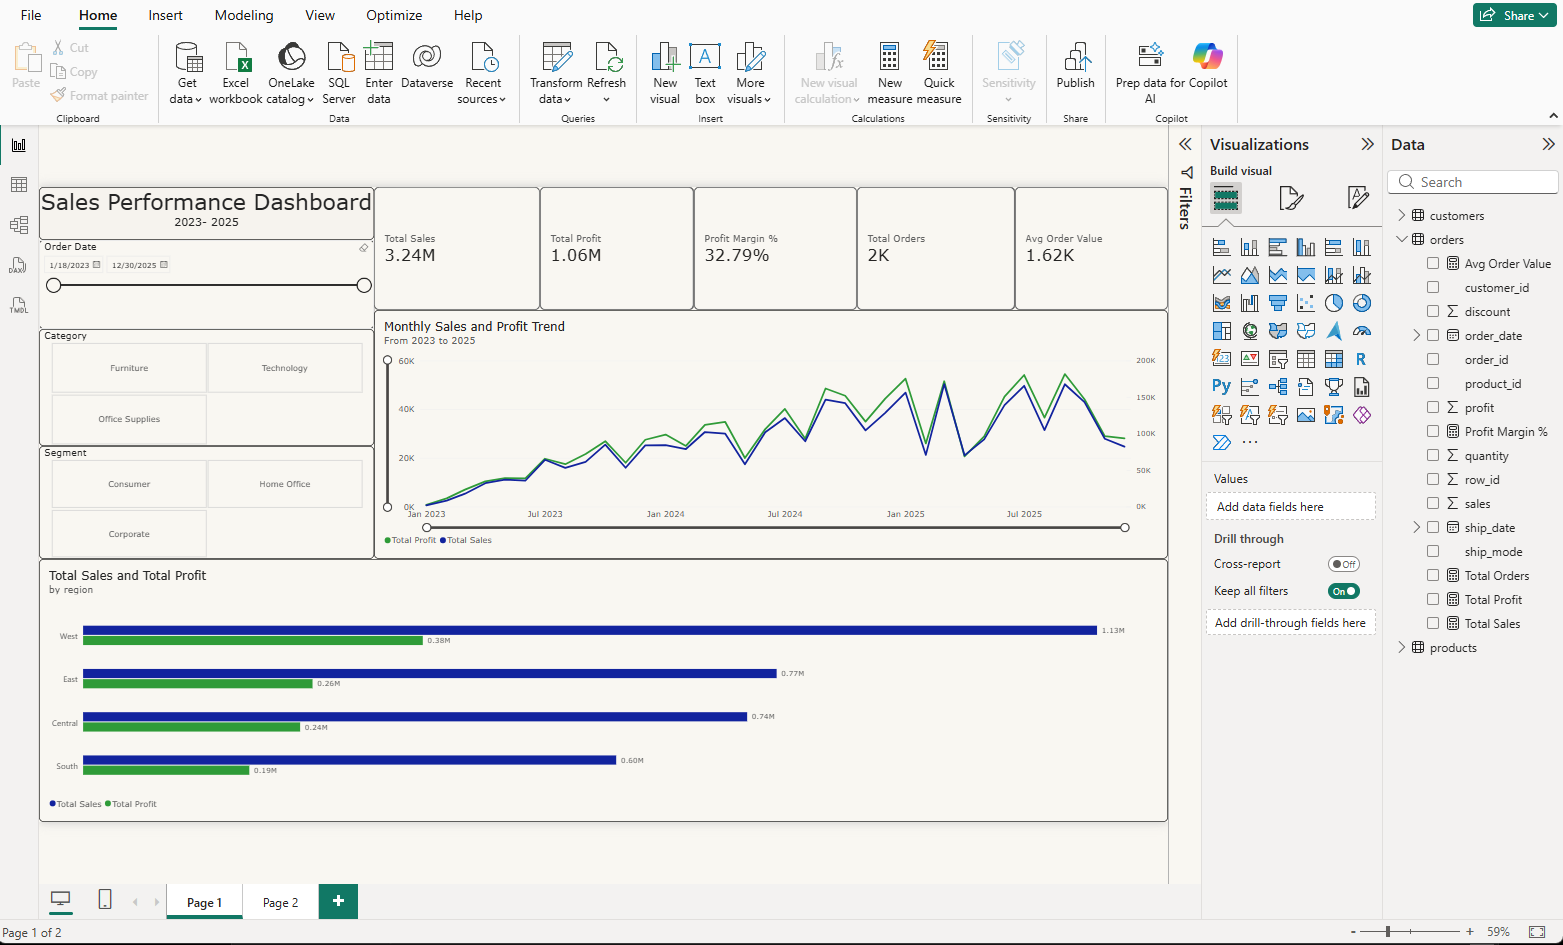

This screenshot's page, from the dashboard's own definition file:
{"tool":"powerbi","page":{"name":"Page 1","canvas":[1920,1080],"ordinal":0},"visuals":[{"type":"cardVisual","fields":{"Data":["orders.Total Profit"]},"box":[852,0,261.9,209.2],"z":0},{"type":"cardVisual","fields":{"Data":["orders.Profit Margin %"]},"box":[1113.9,0,277.2,209.2],"z":1000},{"type":"cardVisual","fields":{"Data":["orders.Total Orders"]},"box":[1391.1,0,268.7,209.2],"z":2000},{"type":"cardVisual","fields":{"Data":["orders.Avg Order Value"]},"box":[1659.8,0,260.2,209.2],"z":3000},{"type":"lineChart","title":"Monthly Sales and Profit Trend","fields":{"Y":["orders.Total Profit"],"Y2":["orders.Total Sales"],"Category":["orders.order_date.Variation.Date Hierarchy.Year","orders.order_date.Variation.Date Hierarchy.Month"]},"box":[569.7,209.2,1350.3,423.5],"z":4000},{"type":"clusteredBarChart","fields":{"Category":["customers.region"],"Y":["orders.Total Sales","orders.Total Profit"]},"box":[0,632.6,1920,447.3],"z":5000},{"type":"slicer","title":"Order Date","fields":{"Values":["orders.order_date"]},"box":[0,90.1,569.7,151.4],"z":6000},{"type":"slicer","fields":{"Values":["customers.segment"]},"box":[0,440.5,569.7,192.2],"z":7000},{"type":"slicer","fields":{"Values":["products.category"]},"box":[0,241.5,569.7,199],"z":8000},{"type":"textbox","box":[0,0,569.7,90.1],"z":9000},{"type":"cardVisual","fields":{"Data":["orders.Total Sales"]},"box":[569.7,0,282.3,209.2],"z":10000}]}

Visuals, with their boxes on the page's 1920x1080 design canvas (x1, y1, x2, y2). These are canvas units, not pixel positions in the 1563x945 screenshot, which may show the page scaled, cropped or inside an application window:
cardVisual - orders.Total Profit: (x1=852, y1=0, x2=1114, y2=209)
cardVisual - orders.Profit Margin %: (x1=1114, y1=0, x2=1391, y2=209)
cardVisual - orders.Total Orders: (x1=1391, y1=0, x2=1660, y2=209)
cardVisual - orders.Avg Order Value: (x1=1660, y1=0, x2=1920, y2=209)
"Monthly Sales and Profit Trend" lineChart: (x1=570, y1=209, x2=1920, y2=633)
clusteredBarChart - customers.region x orders.Total Sales: (x1=0, y1=633, x2=1920, y2=1080)
"Order Date" slicer: (x1=0, y1=90, x2=570, y2=242)
slicer - customers.segment: (x1=0, y1=440, x2=570, y2=633)
slicer - products.category: (x1=0, y1=242, x2=570, y2=440)
textbox: (x1=0, y1=0, x2=570, y2=90)
cardVisual - orders.Total Sales: (x1=570, y1=0, x2=852, y2=209)
